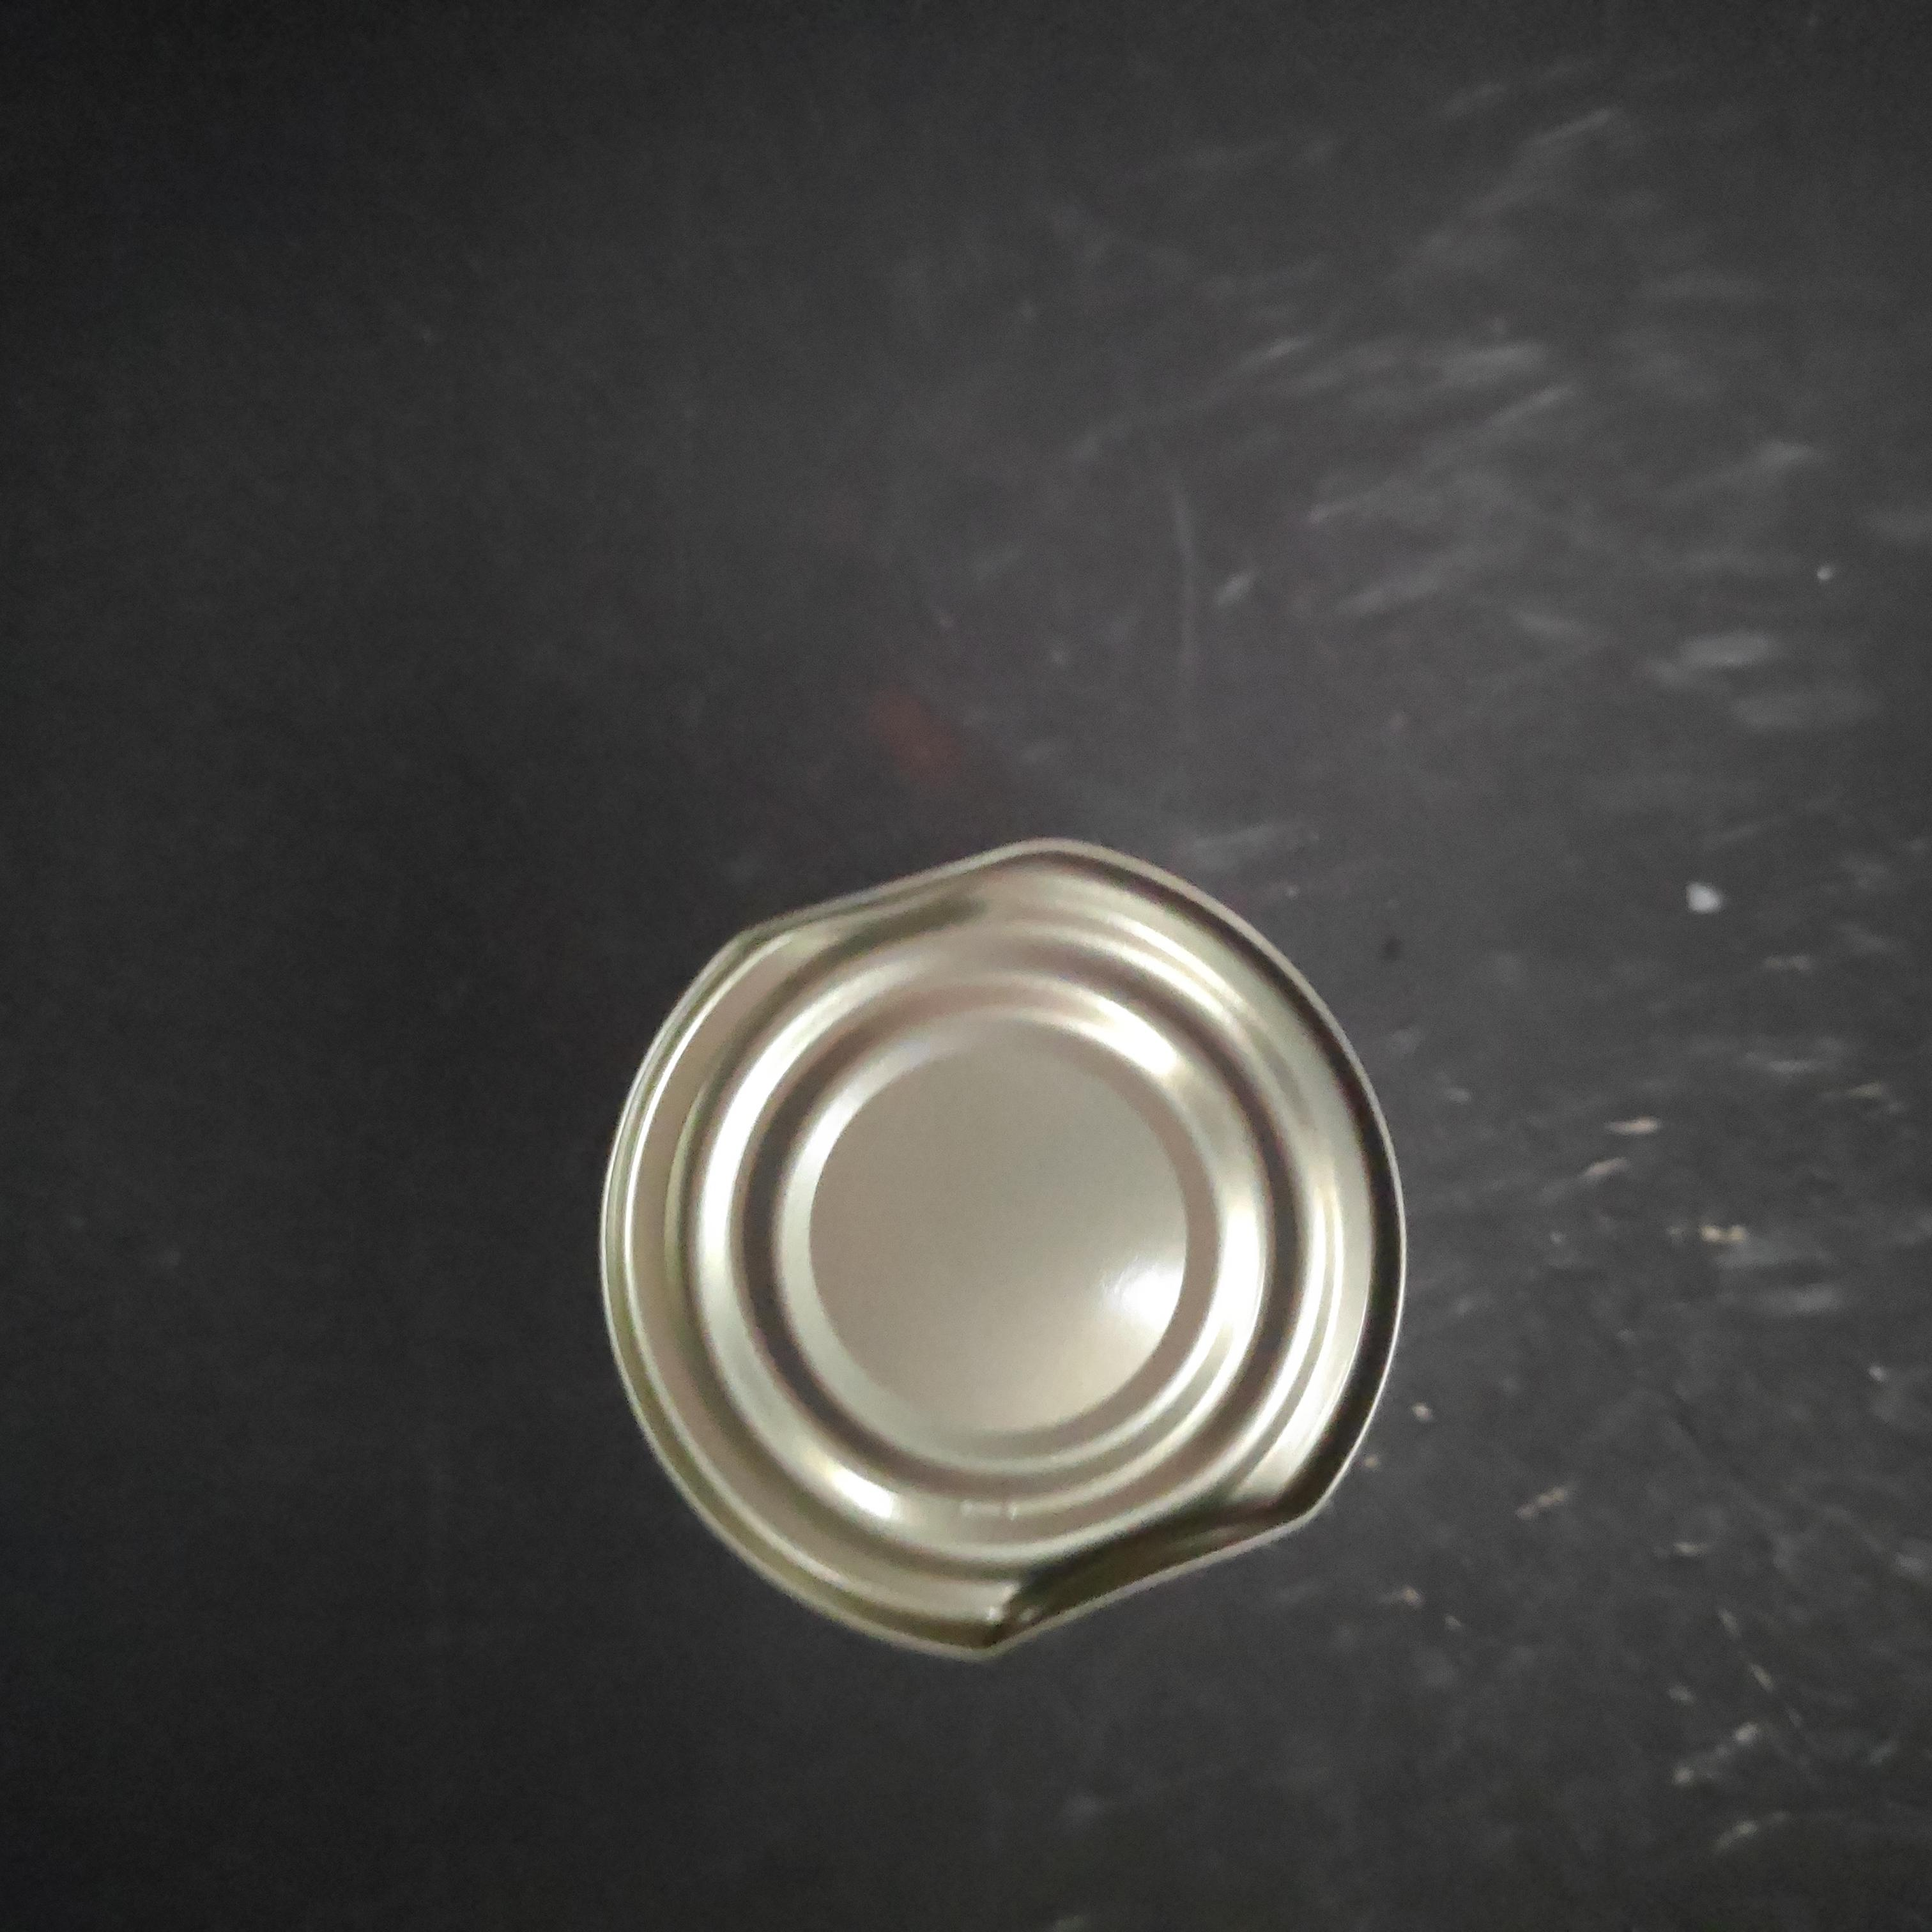Minor Defect: (589, 831, 1422, 1683)
